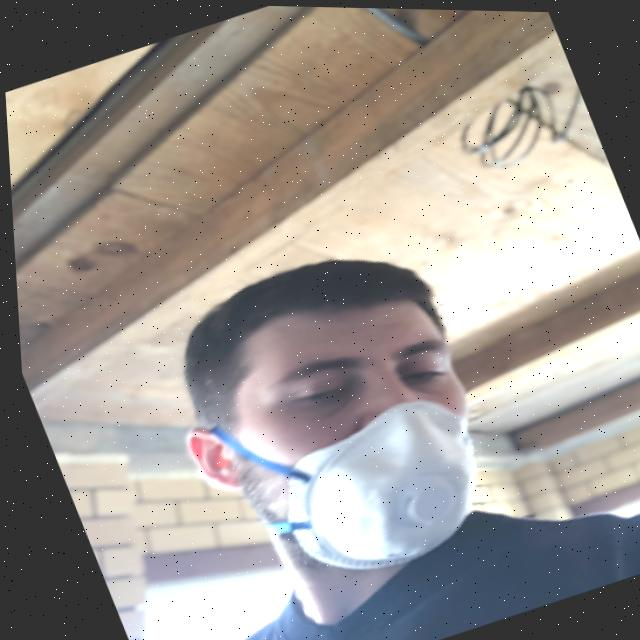Mask: (167, 329, 523, 620)
